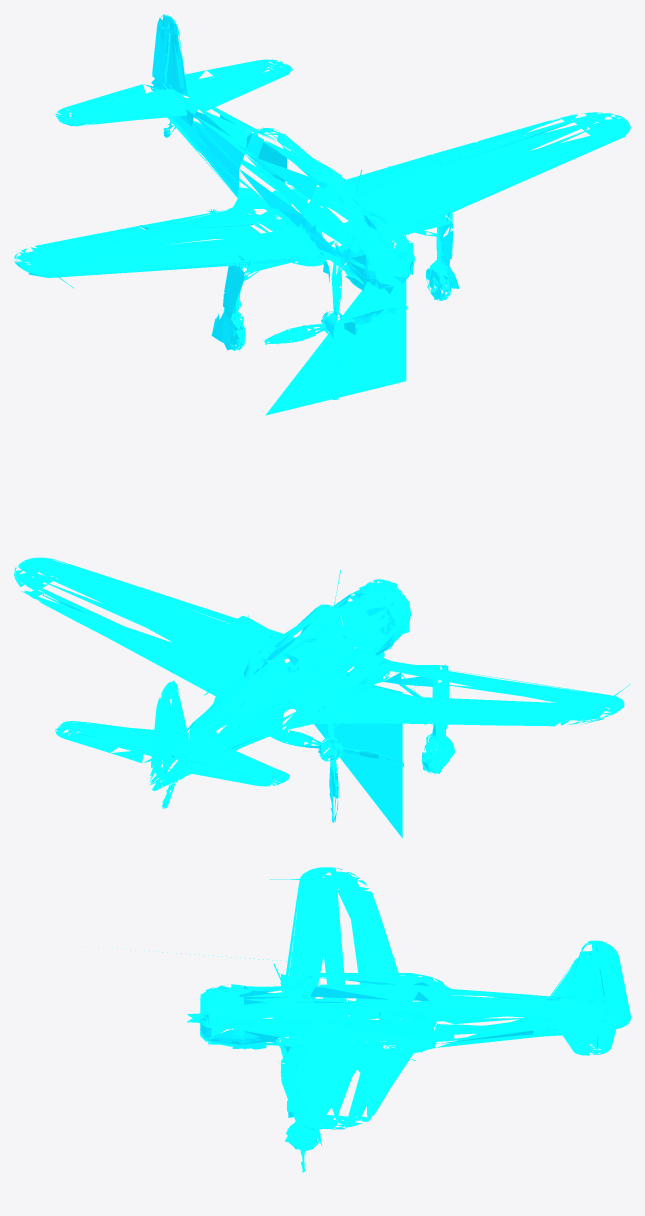
The model's file is PJAB002.glb.
3 renders of one model, top to bottom at view 1: azimuth 30°, elevation 25°; view 2: azimuth 150°, elevation 25°; view 3: azimuth 270°, elevation 25°, orthographic. The views are drawn at different scales.
Visible parts, largest first — view 1: misc; view 2: misc; view 3: misc.
Part boxes in pixels (bbox=[...]): misc: bbox=[14, 14, 630, 415]; misc: bbox=[14, 557, 630, 837]; misc: bbox=[85, 867, 630, 1172].
Bounding box in the file's own units: 0.9963 × 0.412 × 0.9949.
